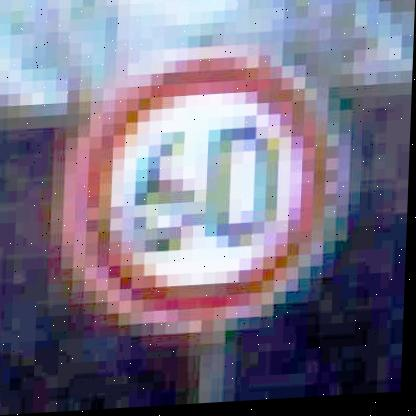Speed Limit -60-: (56, 42, 361, 339)
